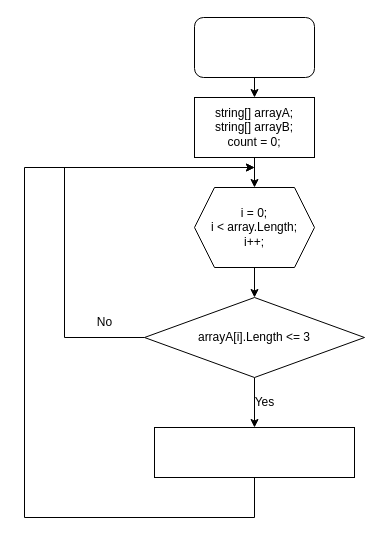
This 382x543 diagram has some shape labels left out. The shapes that lost their labels are listed below. From the top down, each one's centre as x and y in pixels, then its label:
(x=254, y=47): SecondArray
(x=254, y=452): arrayB[count] = arrayA[i]; count++;
